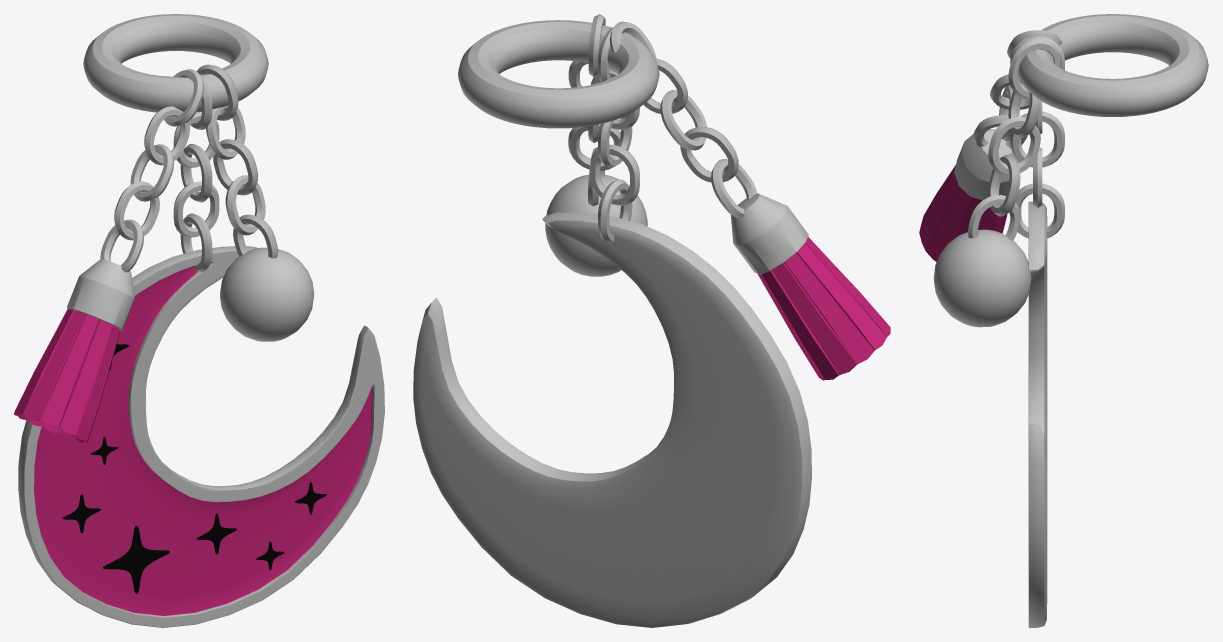
Rendered from Charm2.fbx.
3 renders of one model, left to right at view 1: azimuth 30°, elevation 25°; view 2: azimuth 150°, elevation 25°; view 3: azimuth 270°, elevation 25°, orthographic. The views are drawn at different scales.
Visible parts, largest first — view 1: Charm.009, Charm2, Charm.011, Charm.010, Charm.013, Charm.012, Charm.002; view 2: Charm.009, Charm2, Charm.011, Charm.013, Charm.002, Charm.010, Charm.012; view 3: Charm2, Charm.009, Charm.010, Charm.011, Charm.012, Charm.002, Charm.013.
Boxes of the visible parts, <box> form: Charm.009: <box>18,246,384,627</box>; Charm2: <box>83,14,268,112</box>; Charm.011: <box>14,259,134,443</box>; Charm.010: <box>220,247,314,341</box>; Charm.013: <box>100,69,203,272</box>; Charm.012: <box>197,64,277,258</box>; Charm.002: <box>173,74,219,271</box>; Charm.009: <box>413,212,811,627</box>; Charm2: <box>458,20,659,128</box>; Charm.011: <box>730,193,890,380</box>; Charm.013: <box>609,21,757,218</box>; Charm.002: <box>590,27,639,243</box>; Charm.010: <box>545,174,647,276</box>; Charm.012: <box>568,14,620,206</box>; Charm2: <box>1018,14,1208,116</box>; Charm.009: <box>1028,201,1047,627</box>; Charm.010: <box>933,229,1031,327</box>; Charm.011: <box>919,129,1020,261</box>; Charm.012: <box>968,39,1060,240</box>; Charm.002: <box>1010,36,1064,238</box>; Charm.013: <box>973,30,1062,148</box>.
Size of the model in its own units: 36.33 by 48.31 by 22.18.
